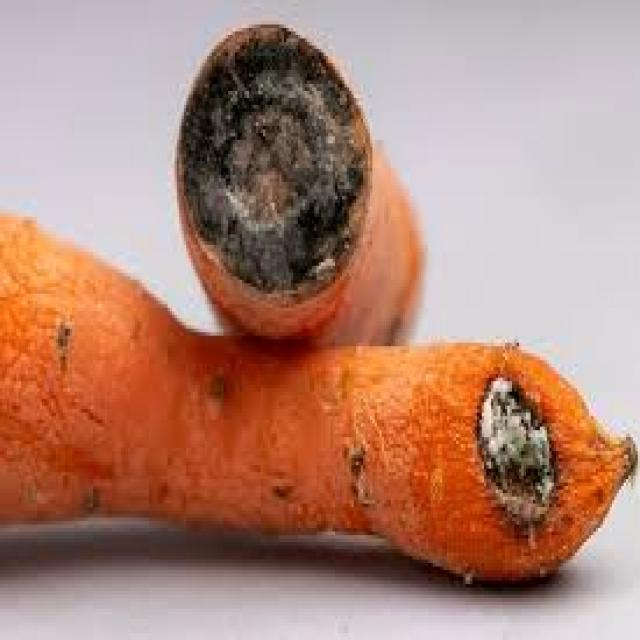organic waste: (0, 210, 638, 580), (172, 18, 421, 353)
